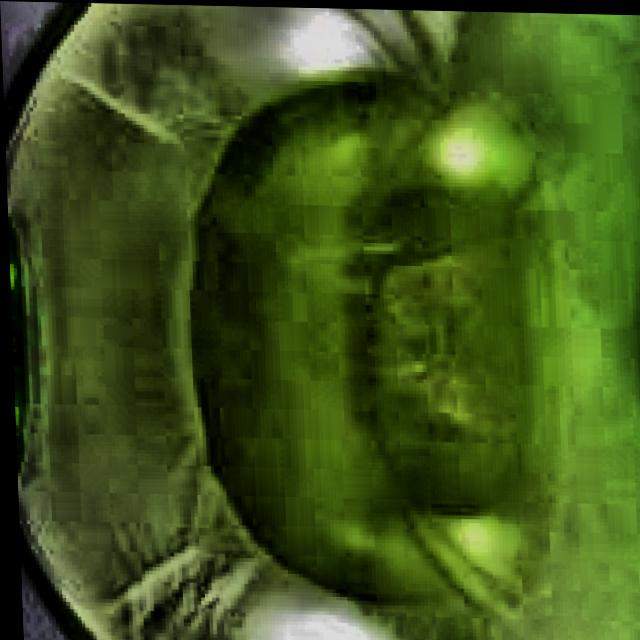glass: (3, 1, 640, 640)
